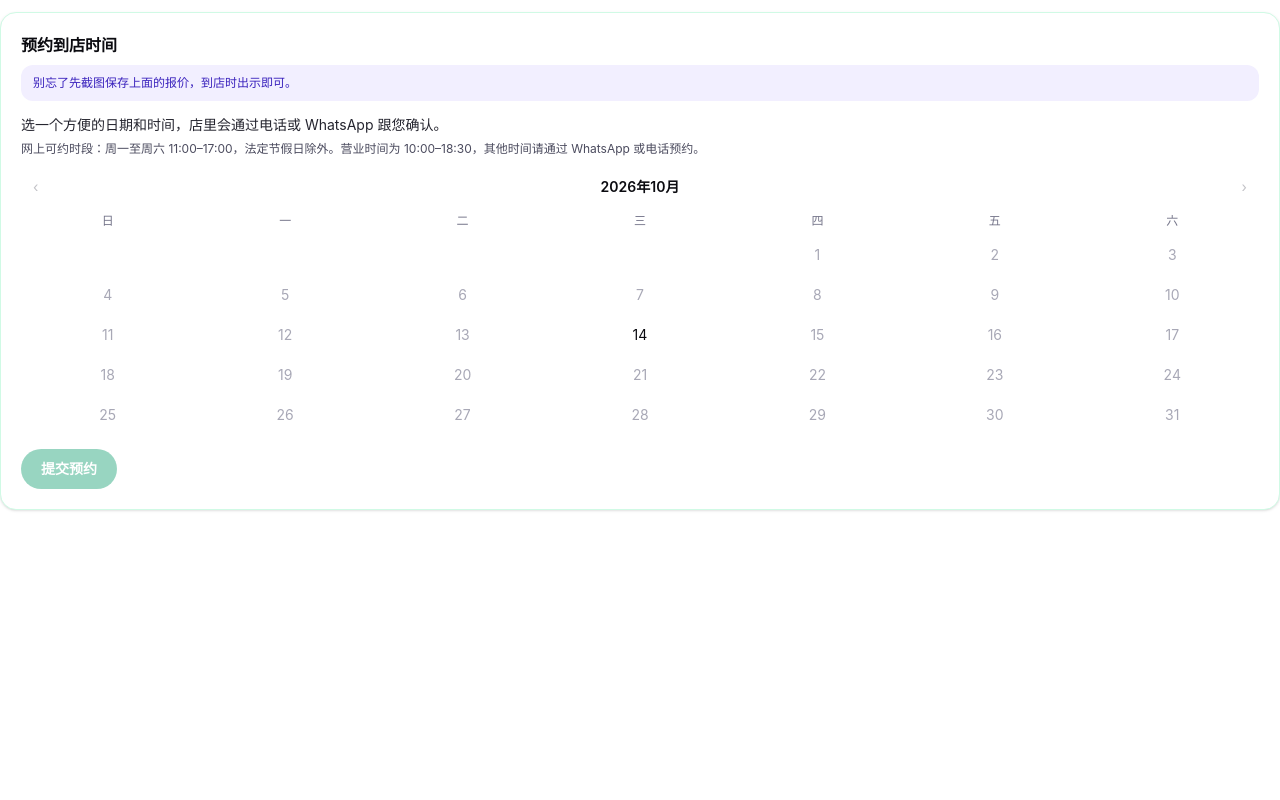
Test case: booking request conversion › is reported once when the shop received the request
The width and height of the screenshot is (1280, 800).
Click the button named "10月14日" at (640, 335), box [553,317,727,353]
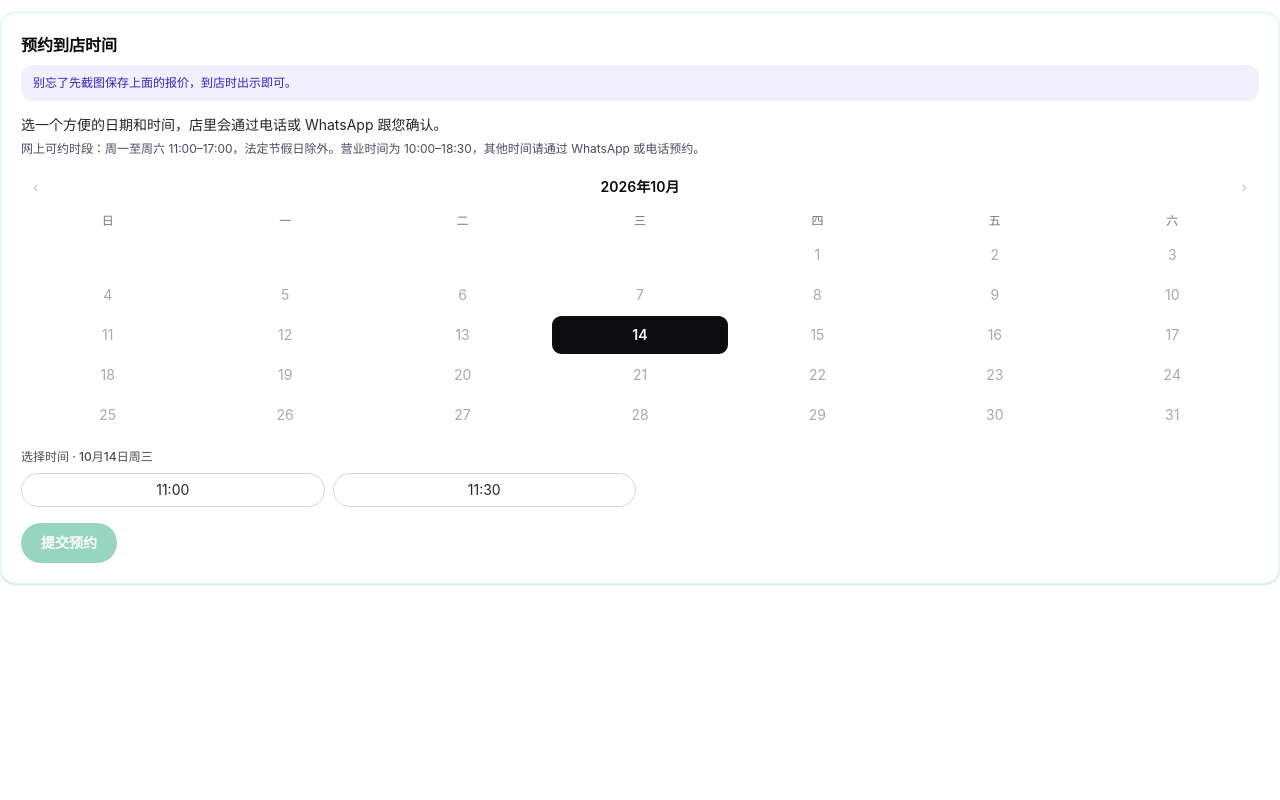
Click the button "11:30" at (484, 490), box [332,473,636,507]
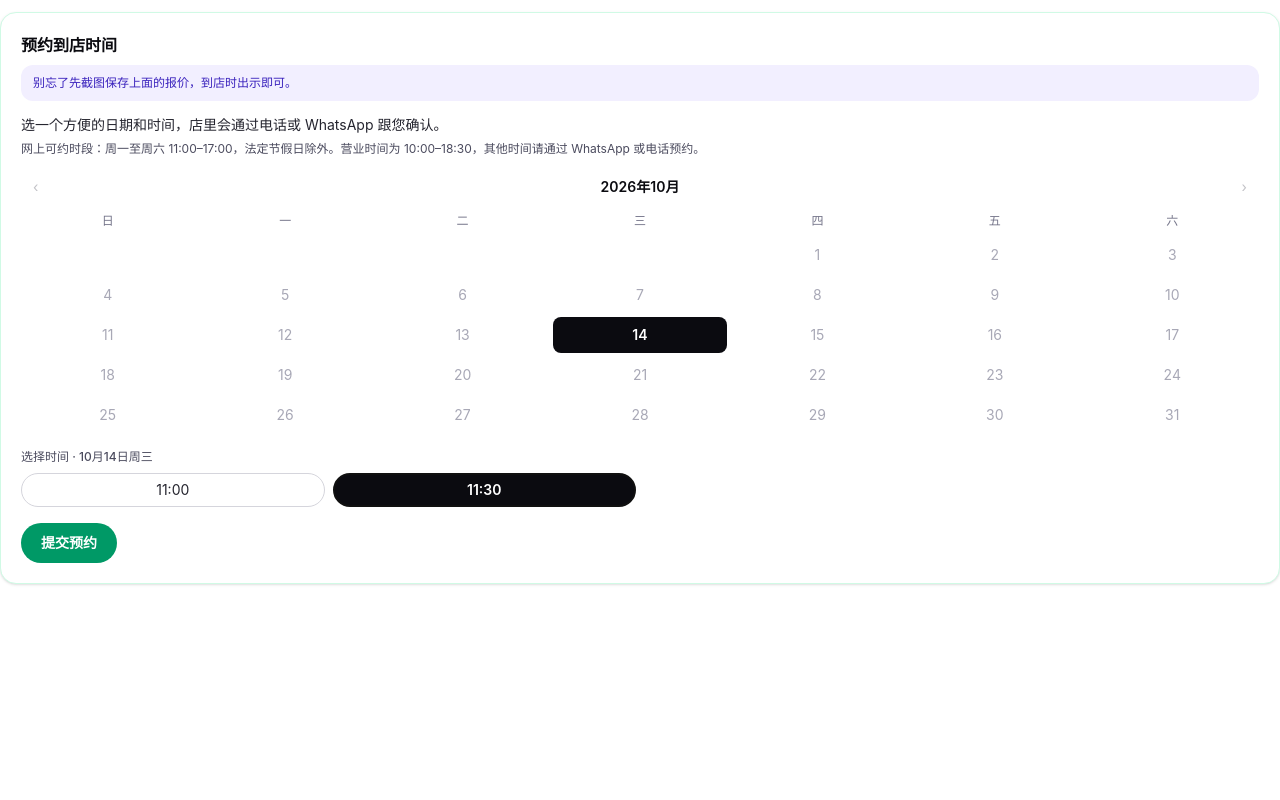
Click the button "提交预约" at (69, 543), box [21,523,117,563]
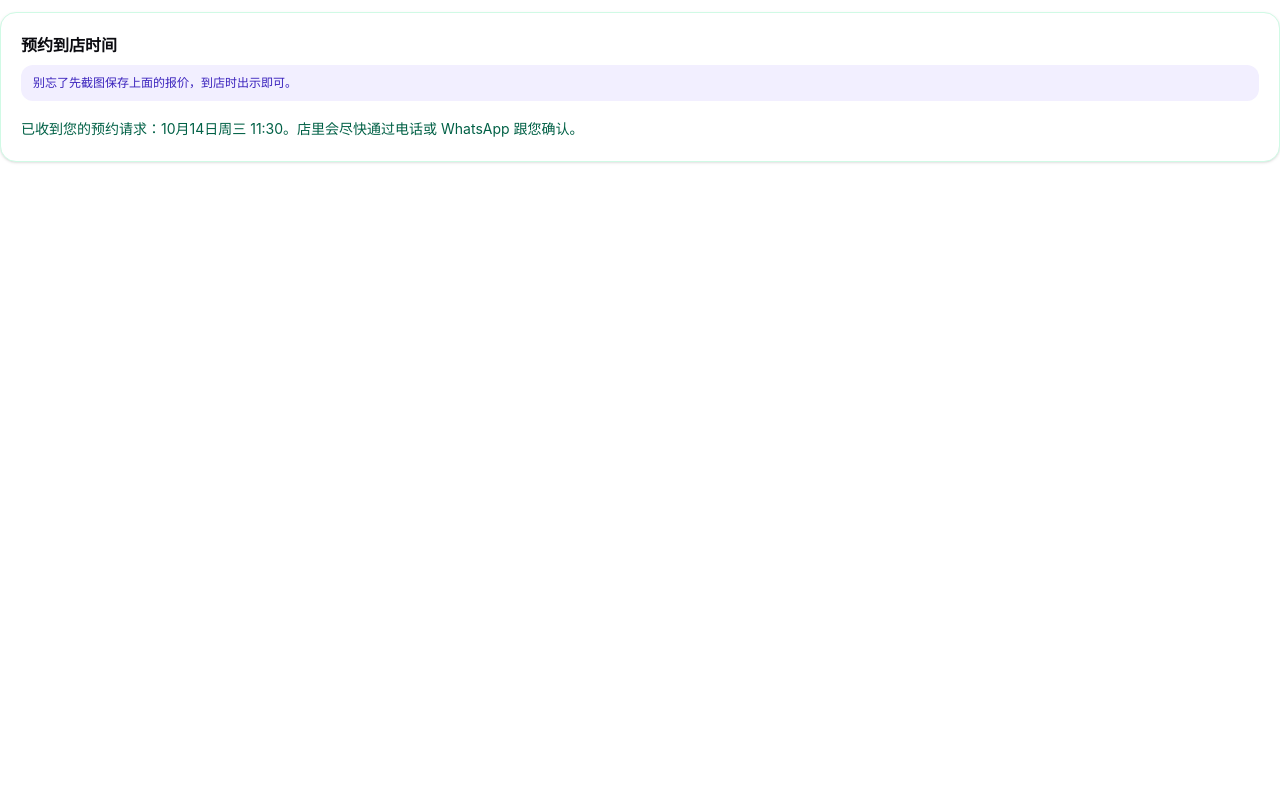
Expected: the text "已收到您的预约请求" is shown, [21,120,584,137]
